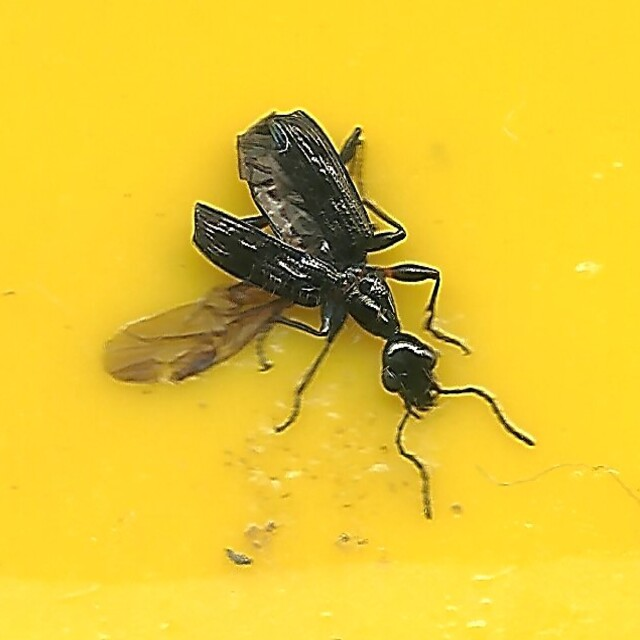Coleoptera: (101, 114, 539, 526)
